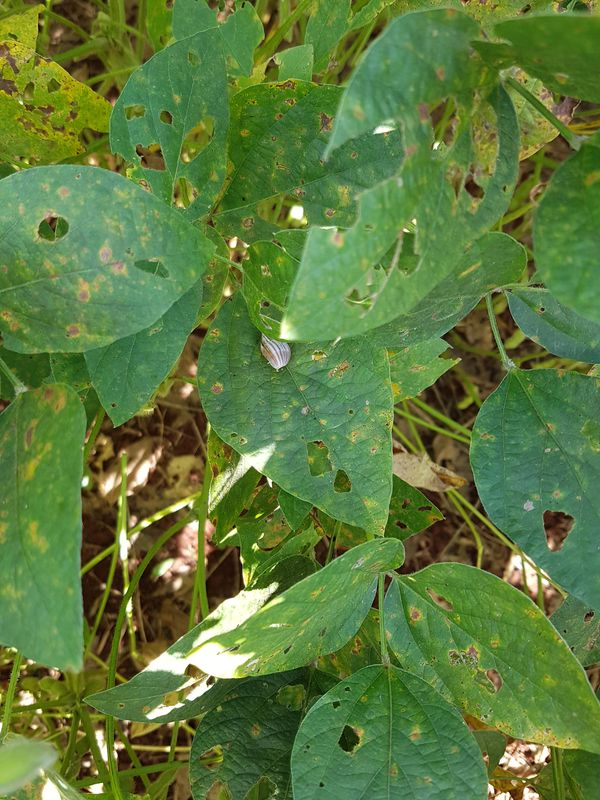Gastropoda: (249, 317, 305, 381)
